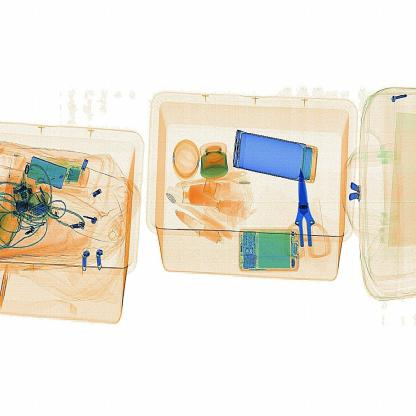gun: (282, 161, 343, 256)
